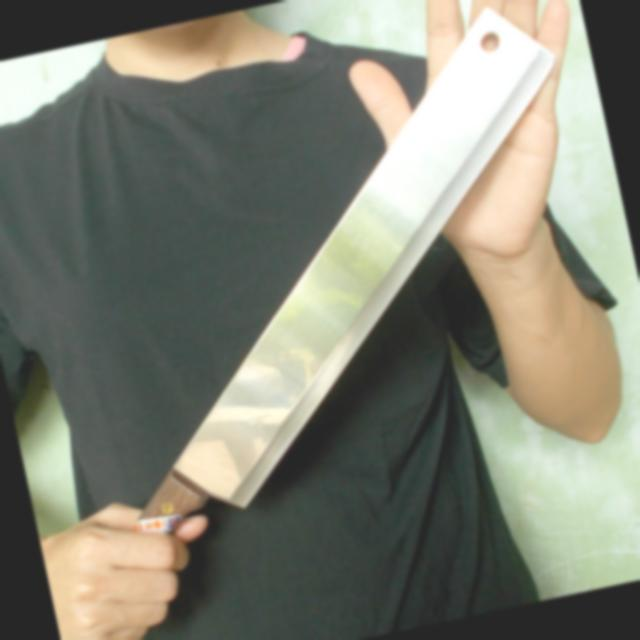eto: (40, 0, 567, 640)
